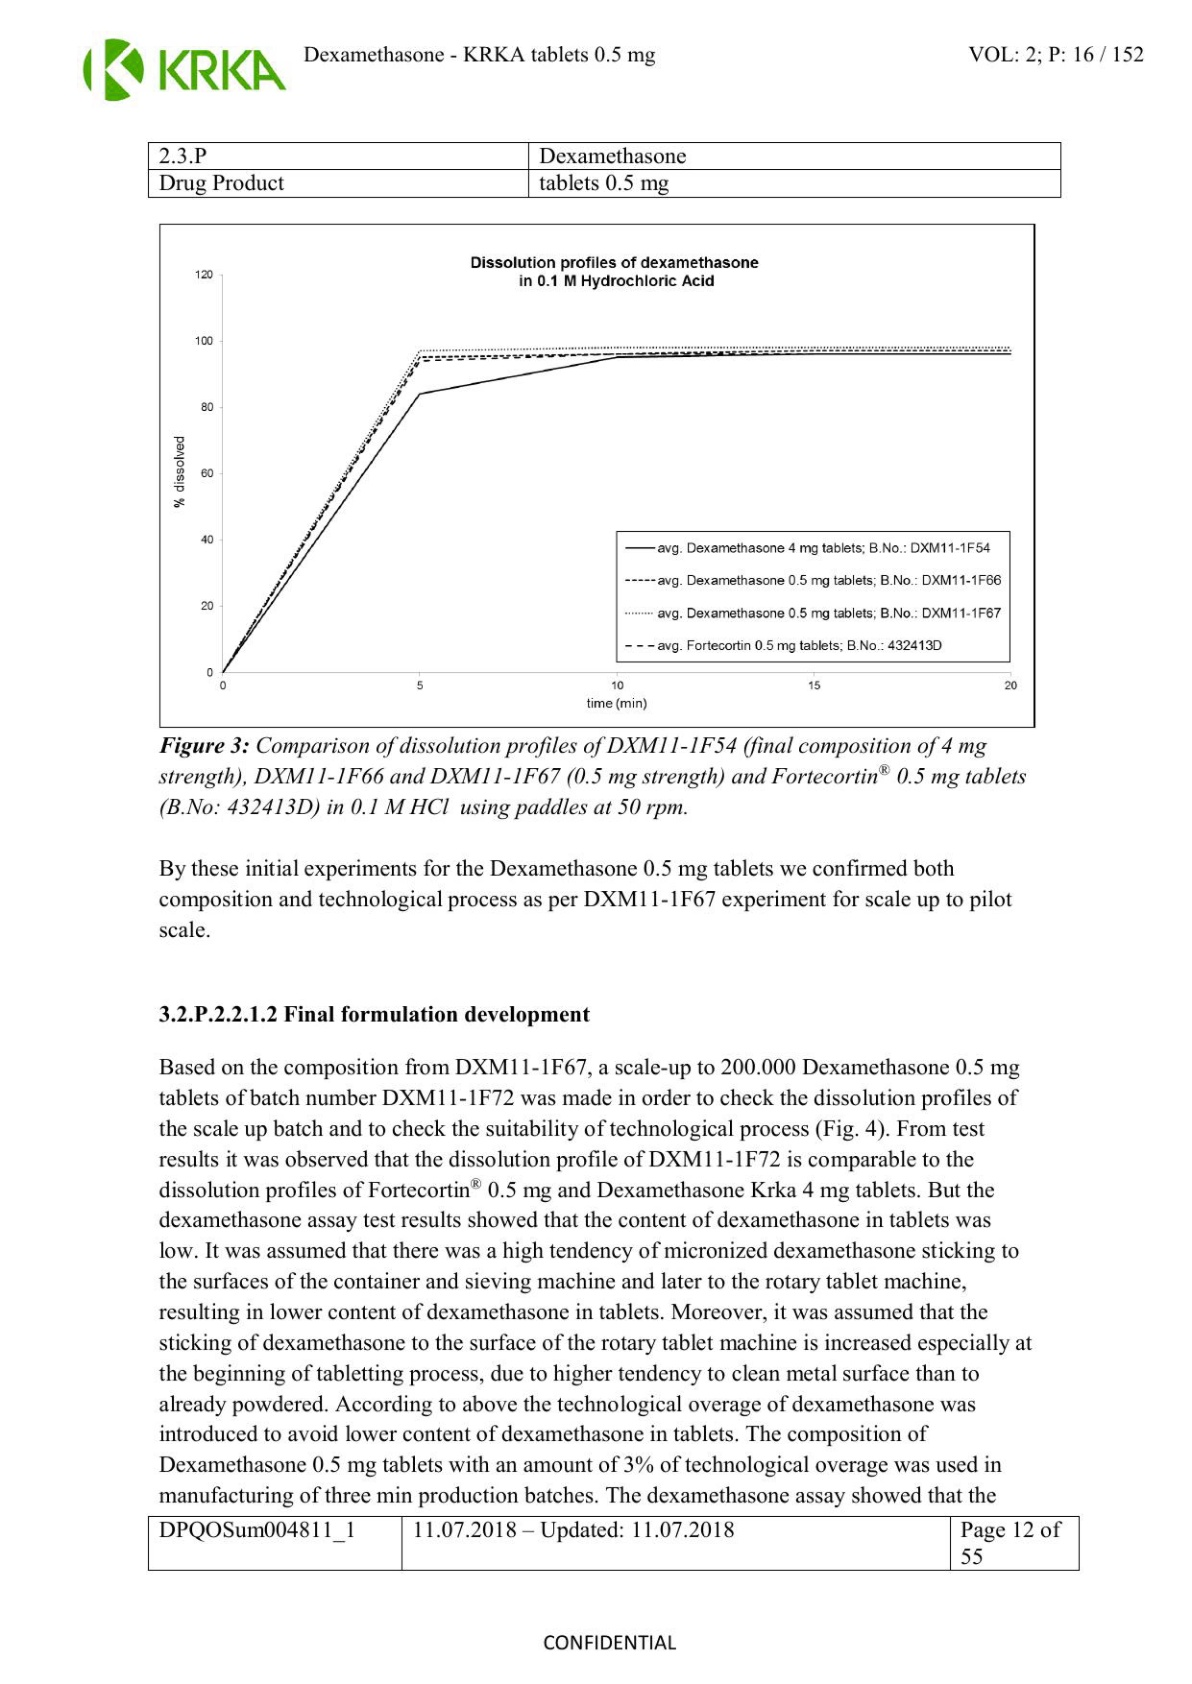full_lined: (146, 141, 1062, 199), (147, 1516, 1080, 1571)
